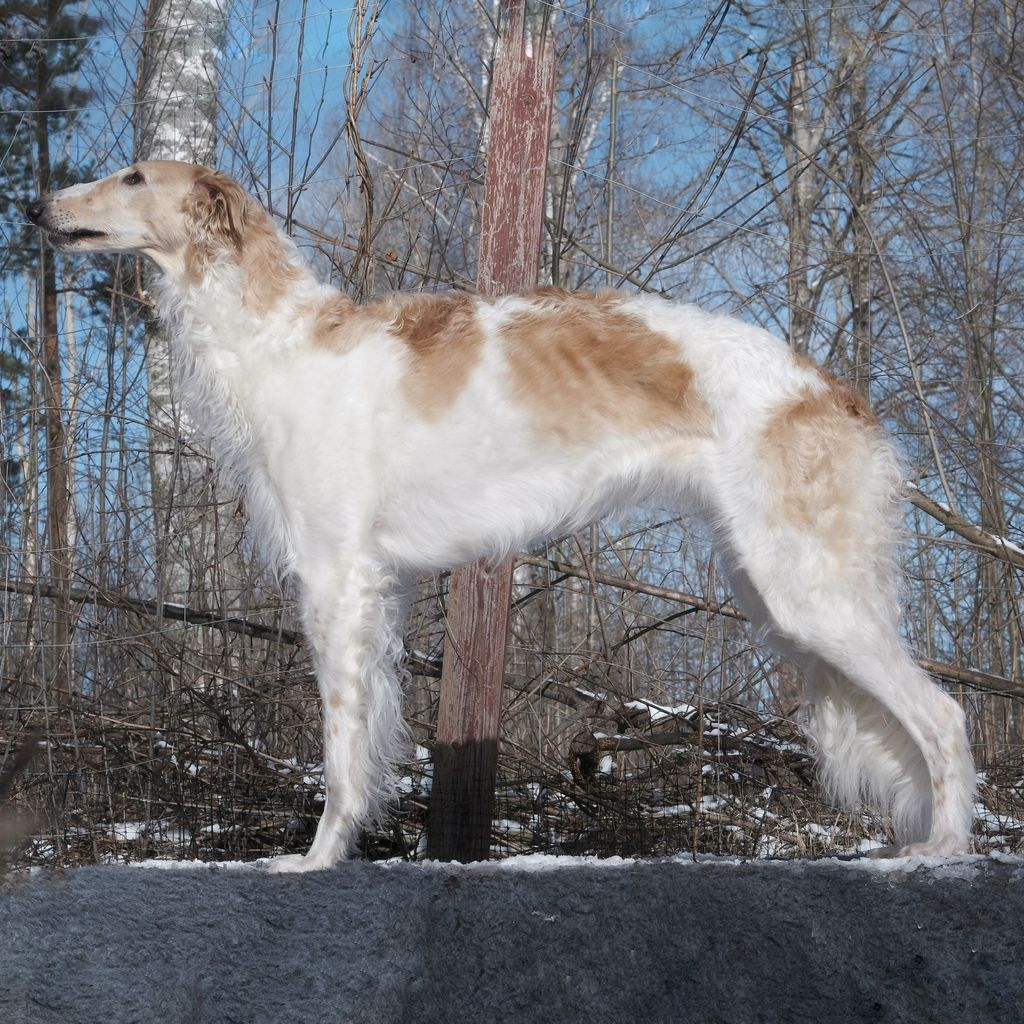borzoi: (19, 155, 991, 863)
